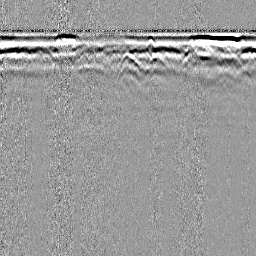cavity: (114, 50, 144, 73)
